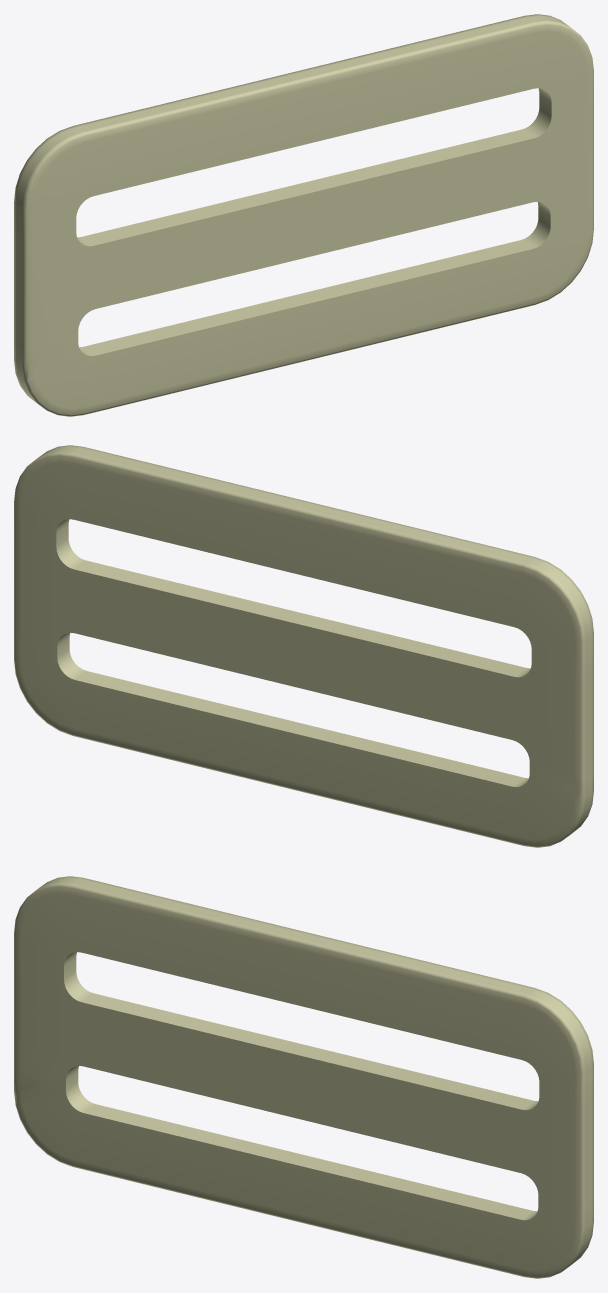
Rendered from SM_PB001_Metal.FBX.
3 renders of one model, top to bottom at view 1: azimuth 30°, elevation 25°; view 2: azimuth 150°, elevation 25°; view 3: azimuth 330°, elevation 25°, orthographic.
Parts seen in each view (by area): view 1: SM_PB001_Metal; view 2: SM_PB001_Metal; view 3: SM_PB001_Metal.
Boxes of the visible parts, x1,y1,x2,y2 form: SM_PB001_Metal: (14, 14, 593, 416); SM_PB001_Metal: (14, 445, 593, 847); SM_PB001_Metal: (14, 876, 593, 1278).
Bounding box in the file's own units: 0.6787 × 0.3206 × 0.0252.
